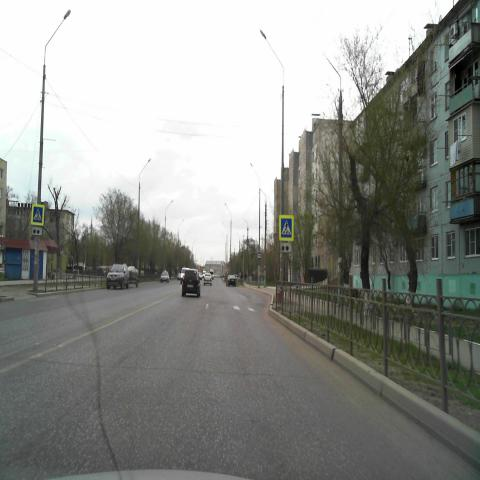8_15: (279, 242, 291, 252)
